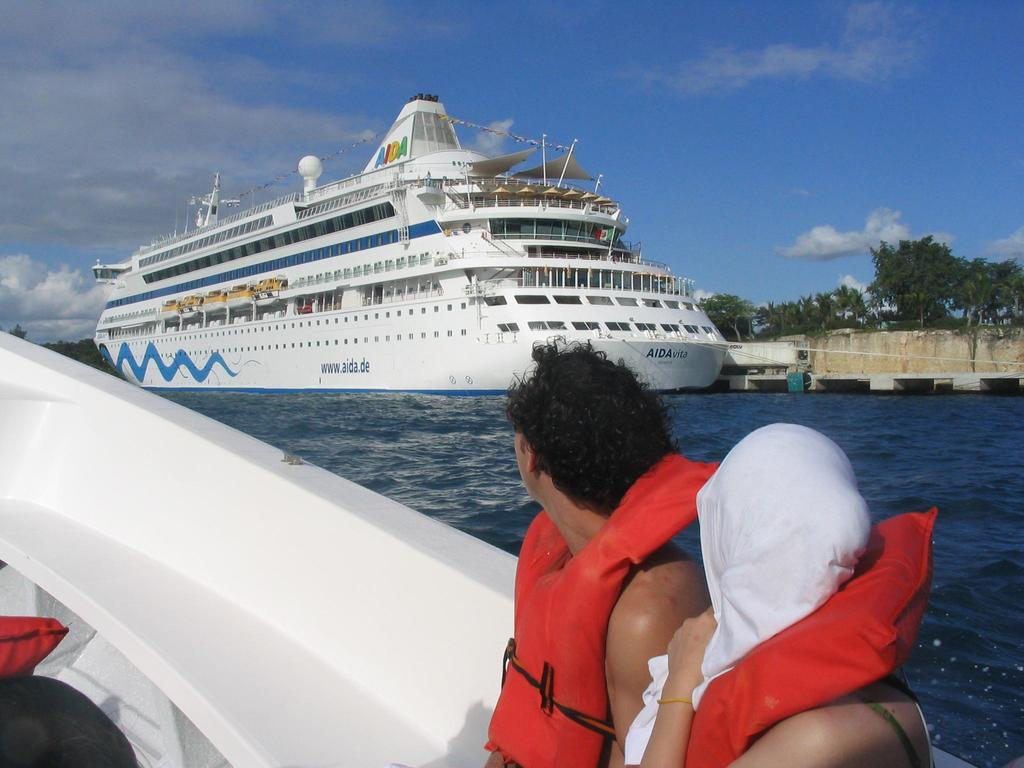PassengerShip: (58, 89, 790, 403)
